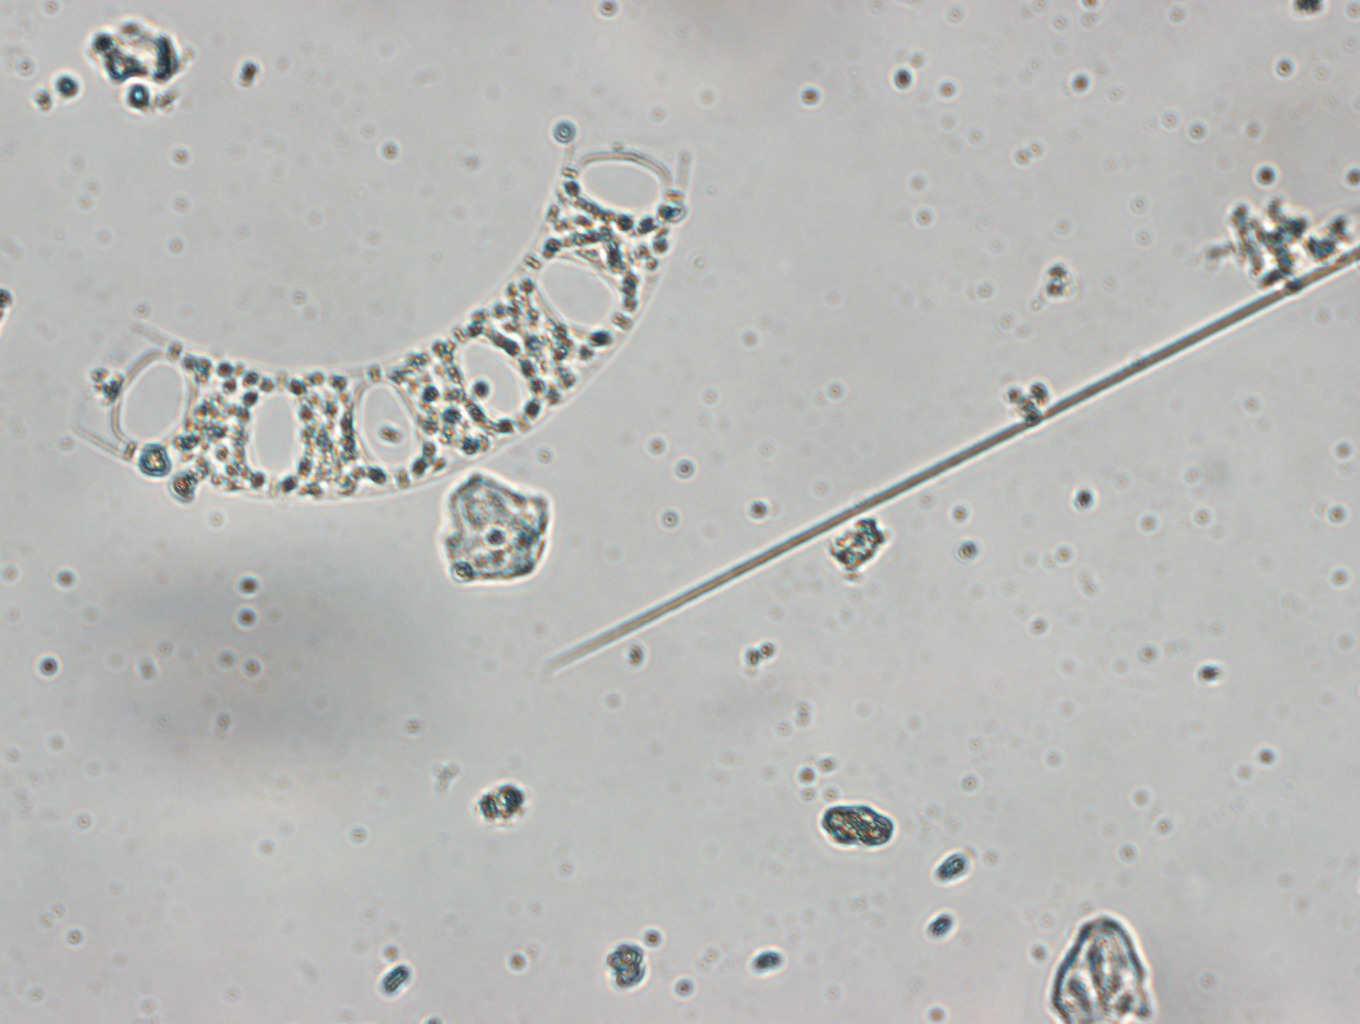eucampia: (76, 139, 701, 522)
